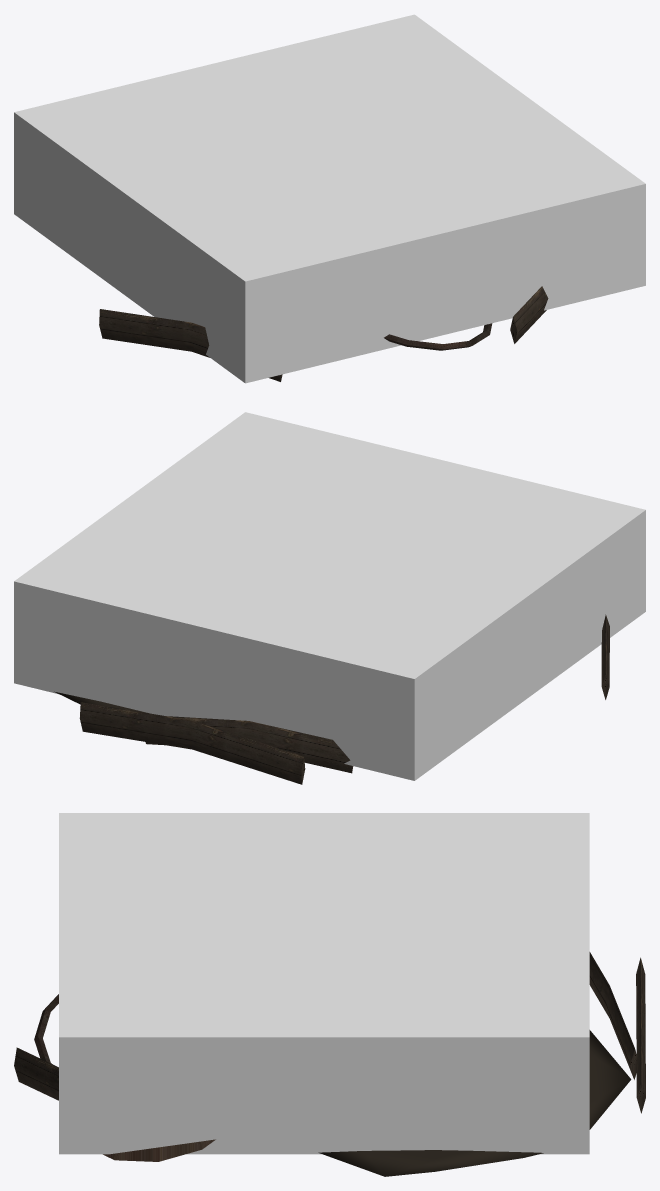
The model's file is barrel_broken.glb.
3 views of the same model, one above another, from view 1: azimuth 30°, elevation 25°; view 2: azimuth 150°, elevation 25°; view 3: azimuth 270°, elevation 25° (orthographic). The views are drawn at different scales.
Parts seen in each view (by area): view 1: col_click, barrel_broken; view 2: col_click, barrel_broken; view 3: col_click, barrel_broken.
Part boxes in pixels (left/top/right/bottom): col_click: left=14, top=14, right=645, bottom=383; barrel_broken: left=99, top=286, right=548, bottom=381; col_click: left=14, top=412, right=645, bottom=780; barrel_broken: left=54, top=614, right=609, bottom=784; col_click: left=59, top=813, right=589, bottom=1154; barrel_broken: left=14, top=952, right=645, bottom=1176.
Size of the model in its own units: 1.79 by 0.4168 by 1.71.
5 materials, 3 textured.
